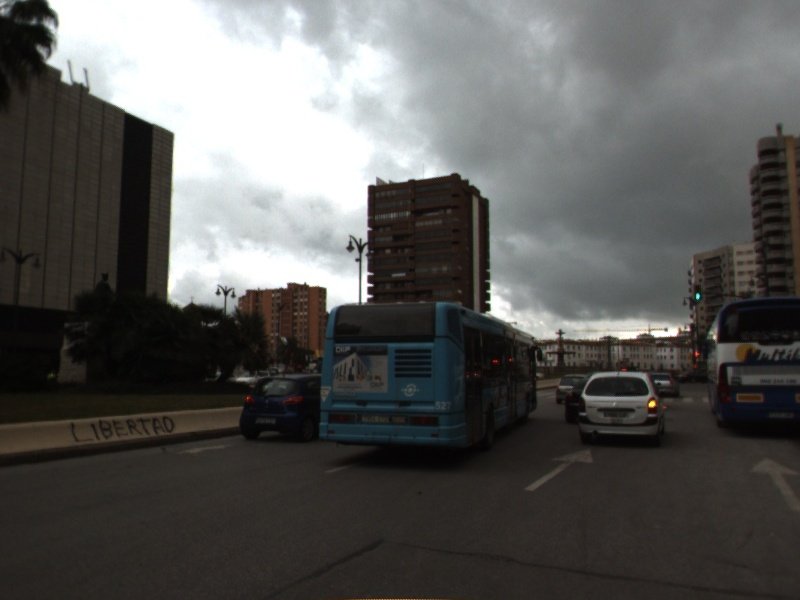STRAIGHT: (521, 446, 596, 494), (747, 455, 800, 512)
